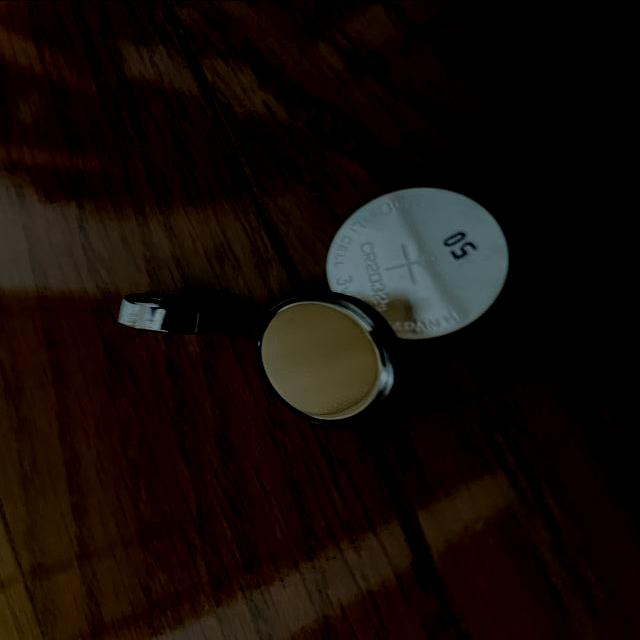COIN: (326, 182, 518, 344), (250, 288, 404, 429), (118, 290, 224, 335)
